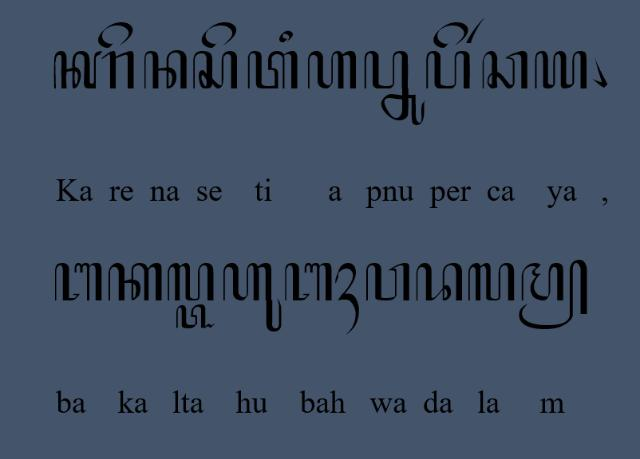-m: (516, 257, 590, 332)
K: (53, 49, 103, 90)
_h1: (336, 261, 360, 337)
_r1: (464, 17, 484, 46)
_t: (174, 304, 216, 332)
b: (52, 261, 104, 305), (282, 261, 336, 303)
c: (481, 49, 529, 90)
d: (414, 261, 464, 303)
e: (98, 20, 134, 50), (433, 19, 469, 48), (201, 20, 237, 48)
h: (306, 49, 358, 93)
hu: (221, 262, 283, 334)
i: (278, 29, 294, 43)
k: (106, 261, 164, 303)
kom: (592, 56, 608, 88)
l: (166, 262, 217, 304), (466, 262, 516, 302)
n: (143, 49, 189, 91)
p: (426, 49, 472, 90)
pnu: (363, 49, 427, 127)
r: (100, 51, 136, 91)
s: (192, 49, 238, 90)
t: (247, 49, 299, 91)
w: (364, 262, 412, 302)
y: (534, 50, 588, 92)
